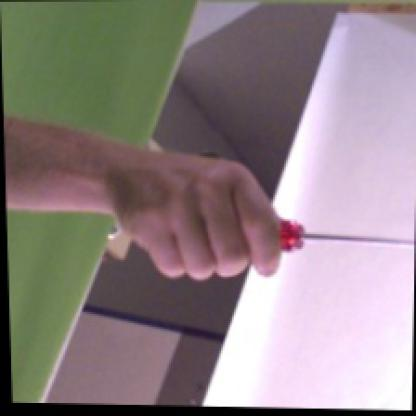Hand: (114, 150, 284, 282)
